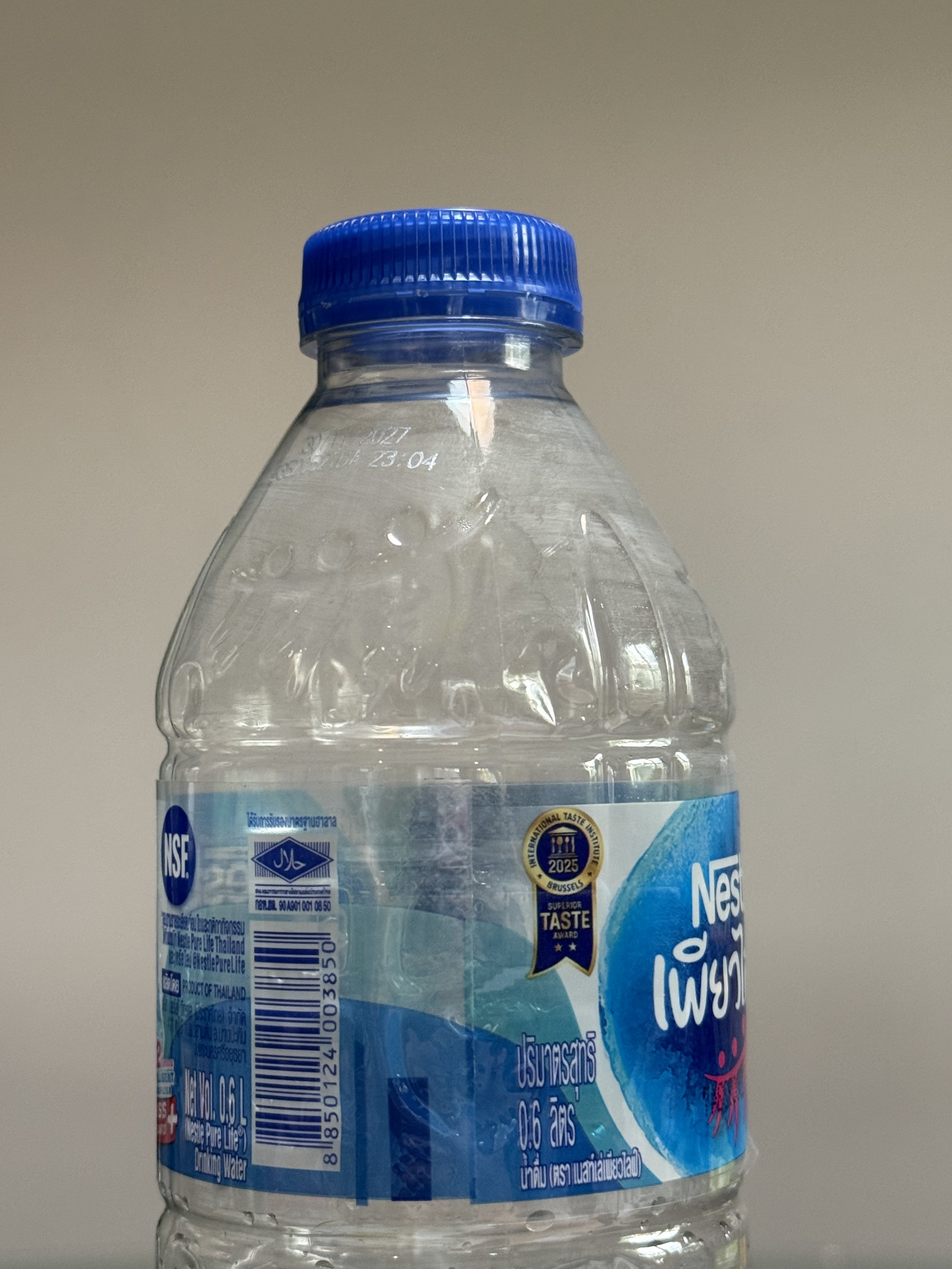closed_cap: (294, 203, 587, 354)
